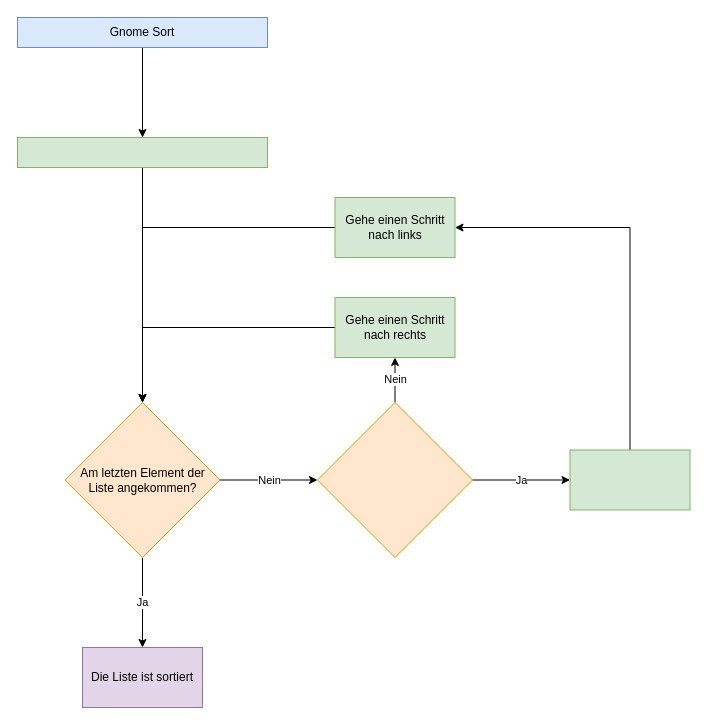
The diagram is 708 pixels wide and 725 high, and some of its shapes have lost their labels. The centre of each missing label's shape, as x and y in pixels:
"Gehe zum Anfang der Liste" goes at [142,152].
"Ist das nächste Element kleiner als das aktuelle?" goes at [394,480].
"Vertausche das aktuelle mit dem nächsten Element" goes at [629,479].
